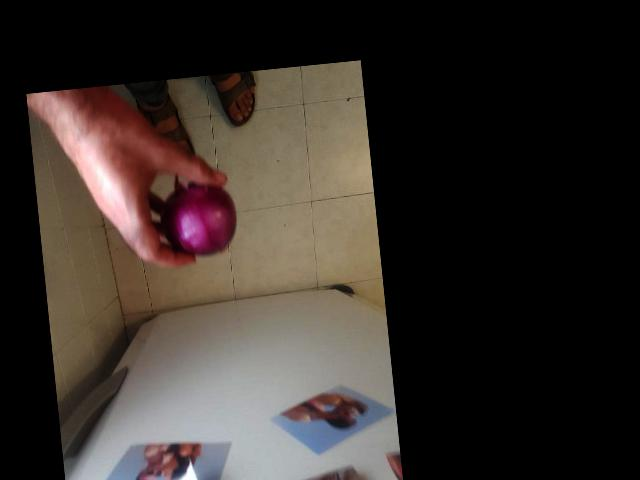onion: (145, 167, 237, 258)
